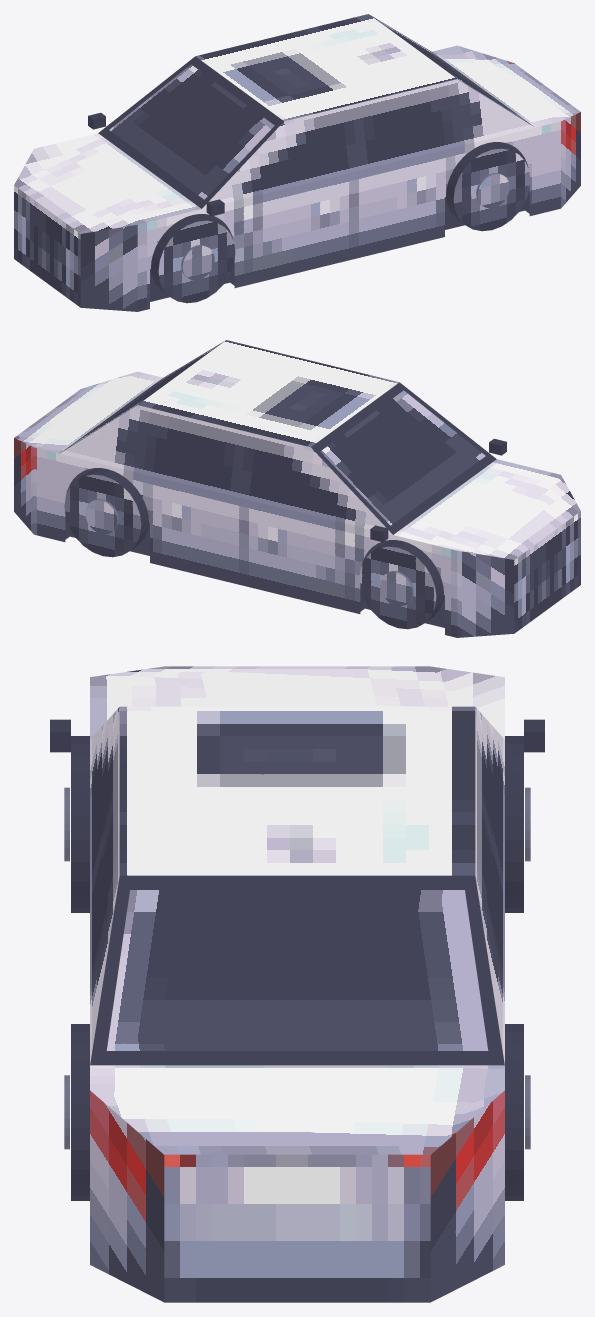
File: car-13-v1.glb
The picture shows the model from 3 angles, top to bottom: view 1: azimuth 30°, elevation 25°; view 2: azimuth 150°, elevation 25°; view 3: azimuth 270°, elevation 25°; orthographic projection. The views are drawn at different scales.
Visible parts, largest first — view 1: Passenger-body-west, Cabin-windows-west, Roof, Windshield-glass, Hood, Front-fascia, Tire_FL, Tire_RL, Trunk, Front-corner--1, Windshield-frame, Rear-corner--1 (+6 smaller); view 2: Passenger-body-east, Cabin-windows-east, Roof, Windshield-glass, Hood, Front-fascia, Tire_FR, Tire_RR, Trunk, Front-corner-1, Windshield-frame, Rear-corner-1 (+6 smaller); view 3: Roof, Rear-window-glass, Rear-fascia, Trunk, Hood, Rear-window-frame, Rear-corner-1, Rear-corner--1, Cabin-windows-east, Cabin-windows-west, Tire_FL, Tire_FR (+2 smaller).
Part boxes in pixels (x1=…): Passenger-body-west: x1=137, y1=121, x2=560, y2=311; Cabin-windows-west: x1=202, y1=79, x2=534, y2=208; Roof: x1=195, y1=14, x2=456, y2=121; Windshield-glass: x1=109, y1=64, x2=274, y2=199; Hood: x1=14, y1=133, x2=200, y2=233; Front-fascia: x1=14, y1=185, x2=80, y2=307; Tire_FL: x1=151, y1=214, x2=235, y2=303; Tire_RL: x1=446, y1=142, x2=530, y2=231; Trunk: x1=432, y1=45, x2=580, y2=127; Front-corner--1: x1=80, y1=224, x2=137, y2=311; Windshield-frame: x1=98, y1=56, x2=283, y2=208; Rear-corner--1: x1=561, y1=112, x2=580, y2=208; Passenger-body-east: x1=34, y1=447, x2=457, y2=637; Cabin-windows-east: x1=60, y1=405, x2=392, y2=534; Roof: x1=138, y1=340, x2=399, y2=447; Windshield-glass: x1=320, y1=390, x2=485, y2=525; Hood: x1=394, y1=459, x2=580, y2=559; Front-fascia: x1=514, y1=511, x2=580, y2=633; Tire_FR: x1=359, y1=540, x2=443, y2=629; Tire_RR: x1=64, y1=468, x2=148, y2=557; Trunk: x1=14, y1=371, x2=162, y2=453; Front-corner-1: x1=457, y1=550, x2=514, y2=637; Windshield-frame: x1=311, y1=382, x2=496, y2=534; Rear-corner-1: x1=14, y1=438, x2=33, y2=534; Roof: x1=119, y1=706, x2=475, y2=875; Rear-window-glass: x1=106, y1=890, x2=488, y2=1050; Rear-fascia: x1=164, y1=1154, x2=430, y2=1302; Trunk: x1=90, y1=1065, x2=504, y2=1154; Hood: x1=90, y1=666, x2=504, y2=739; Rear-window-frame: x1=90, y1=875, x2=504, y2=1065; Rear-corner-1: x1=430, y1=1090, x2=504, y2=1302; Rear-corner--1: x1=90, y1=1090, x2=164, y2=1302; Cabin-windows-east: x1=475, y1=707, x2=504, y2=1064; Cabin-windows-west: x1=90, y1=707, x2=119, y2=1064; Tire_FL: x1=71, y1=736, x2=89, y2=912; Tire_FR: x1=505, y1=736, x2=523, y2=912.
Size of the model in its own units: 78 by 22 by 33.4.
1 material, 1 textured.
